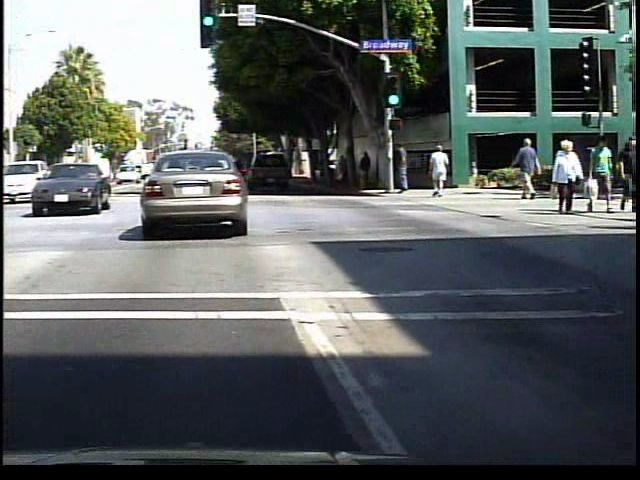person: (589, 136, 621, 217), (556, 139, 587, 217), (517, 139, 549, 202), (430, 142, 455, 200), (396, 139, 416, 200), (362, 148, 380, 192), (342, 152, 357, 189)
